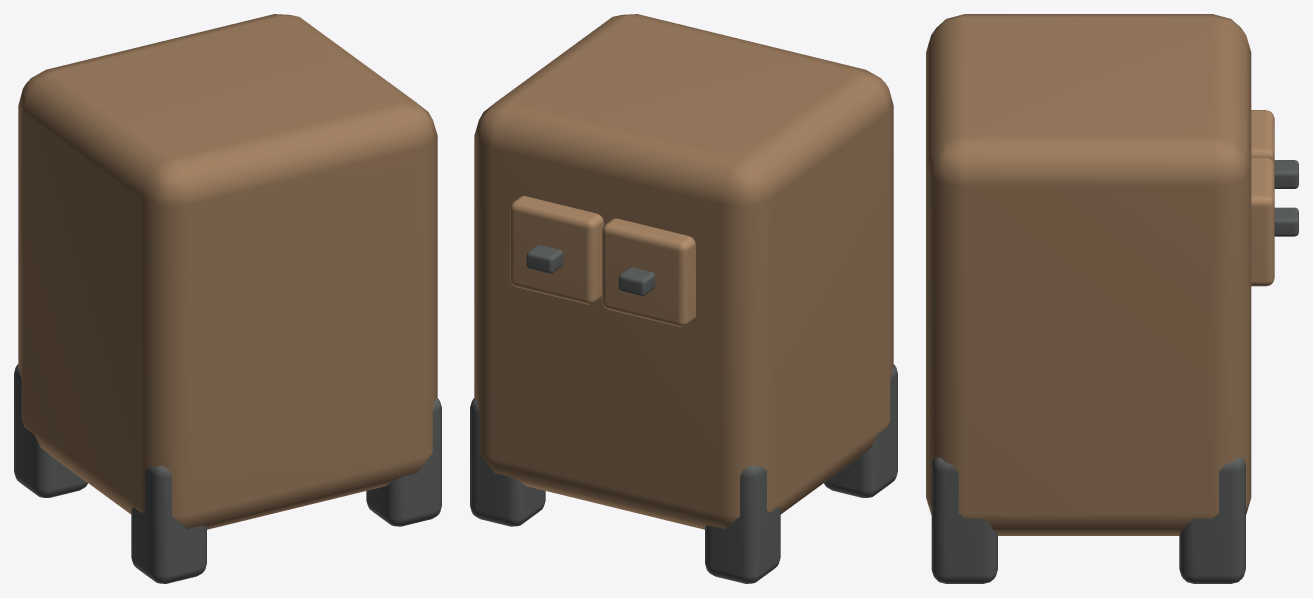
File: mesa-de-apoio-tronco.glb
The picture shows the model from 3 angles, left to right: view 1: azimuth 30°, elevation 25°; view 2: azimuth 150°, elevation 25°; view 3: azimuth 270°, elevation 25°; orthographic projection. The views are drawn at different scales.
Visible parts, largest first — view 1: Caixa de madeira, Pé curto, Pé curto.002, Pé curto.001; view 2: Caixa de madeira, Frente de gaveta, Frente de gaveta.001, Pé curto.001, Pé curto.003, Pé curto, Puxador, Puxador.001; view 3: Caixa de madeira, Pé curto.002, Pé curto.003, Frente de gaveta.001, Frente de gaveta, Puxador.001, Puxador.
Part boxes in pixels (box(x1,y1,x2,y2)): Caixa de madeira: box(18, 14, 437, 529); Pé curto: box(131, 465, 206, 583); Pé curto.002: box(366, 398, 441, 526); Pé curto.001: box(14, 364, 87, 497); Caixa de madeira: box(474, 14, 893, 529); Frente de gaveta: box(602, 218, 695, 326); Frente de gaveta.001: box(510, 196, 603, 304); Pé curto.001: box(705, 465, 780, 583); Pé curto.003: box(470, 398, 545, 526); Pé curto: box(824, 364, 897, 497); Puxador: box(618, 267, 655, 295); Puxador.001: box(526, 245, 563, 273); Caixa de madeira: box(926, 14, 1251, 535); Pé curto.002: box(931, 457, 997, 583); Pé curto.003: box(1179, 457, 1245, 583); Frente de gaveta.001: box(1251, 157, 1274, 286); Frente de gaveta: box(1251, 110, 1274, 165); Puxador.001: box(1274, 207, 1298, 236); Puxador: box(1274, 160, 1298, 188).
Bounding box in the file's own units: 0.322 × 0.4365 × 0.337.
